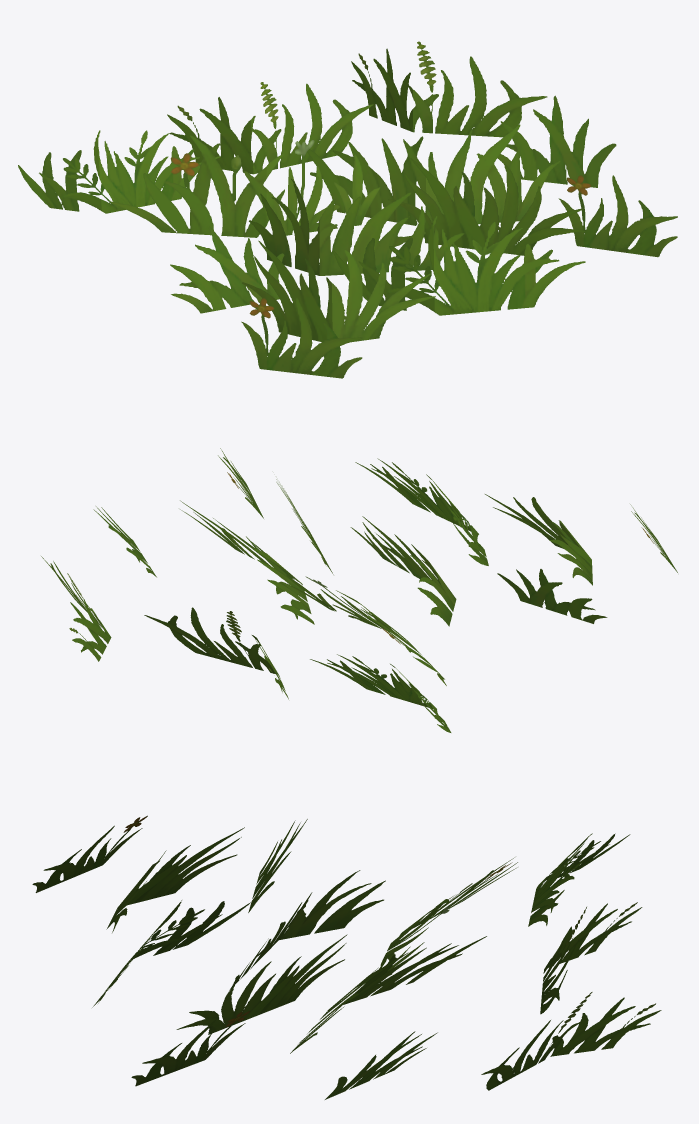
The model's file is grass_02.FBX.
The picture shows the model from 3 angles, top to bottom: view 1: azimuth 30°, elevation 25°; view 2: azimuth 150°, elevation 25°; view 3: azimuth 270°, elevation 25°; orthographic projection. The views are drawn at different scales.
Parts seen in each view (by area): view 1: Plane003; view 2: Plane003; view 3: Plane003.
Boxes of the visible parts, x1=… form: Plane003: x1=18, y1=41, x2=677, y2=378; Plane003: x1=41, y1=448, x2=677, y2=732; Plane003: x1=32, y1=815, x2=661, y2=1099.
Bounding box in the file's own units: 1.98 × 0.2762 × 2.07.
Materials: 1 (1 with a texture image).
